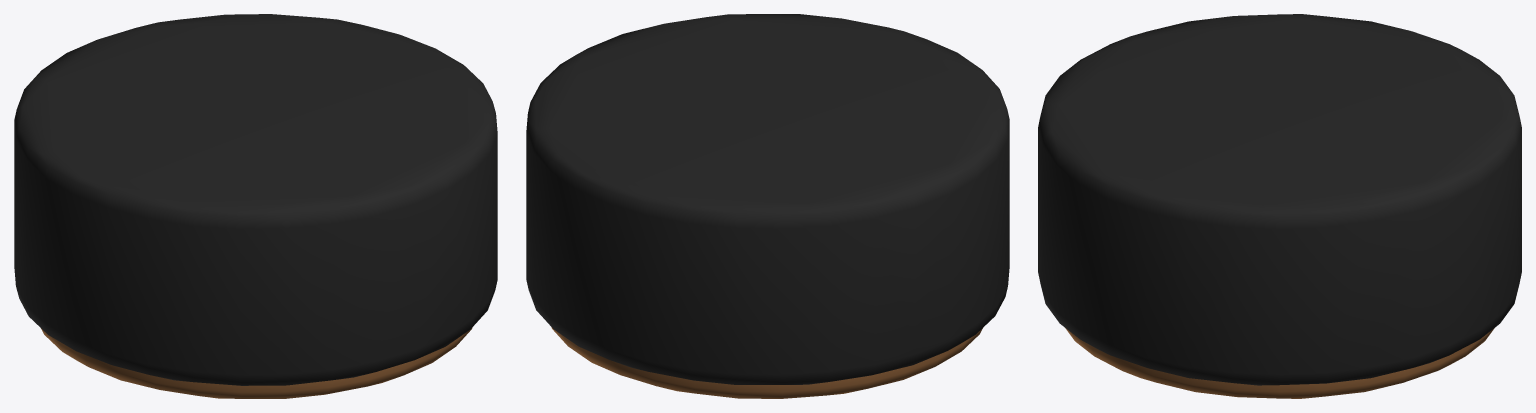
File: stool_04_leather_black.fbx
3 views of the same model, side by side, from view 1: azimuth 30°, elevation 25°; view 2: azimuth 150°, elevation 25°; view 3: azimuth 270°, elevation 25° (orthographic).
Parts seen in each view (by area): view 1: stool_04_leather_black; view 2: stool_04_leather_black; view 3: stool_04_leather_black.
Part boxes in pixels (x1,y1,x2,y2): stool_04_leather_black: (14,14,497,398); stool_04_leather_black: (526,14,1009,398); stool_04_leather_black: (1038,14,1521,398).
Size of the model in its own units: 86.76 by 38.97 by 86.76.
Materials: 2 (2 with a texture image).
